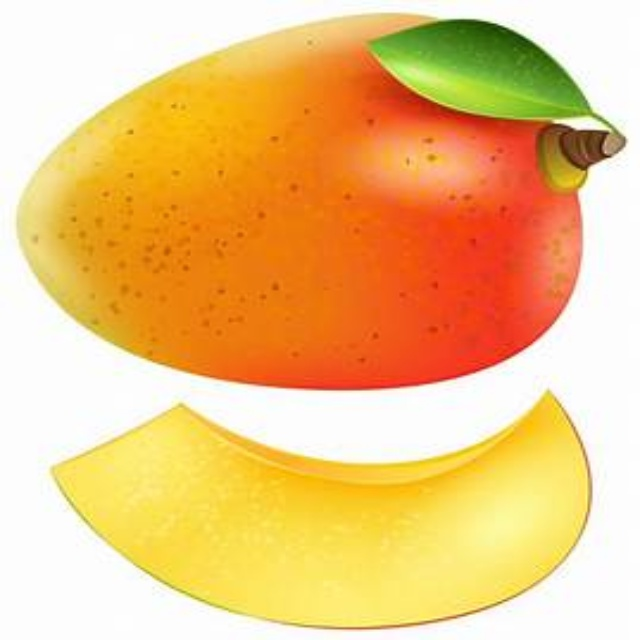mango: (25, 27, 607, 389), (58, 401, 593, 631)
